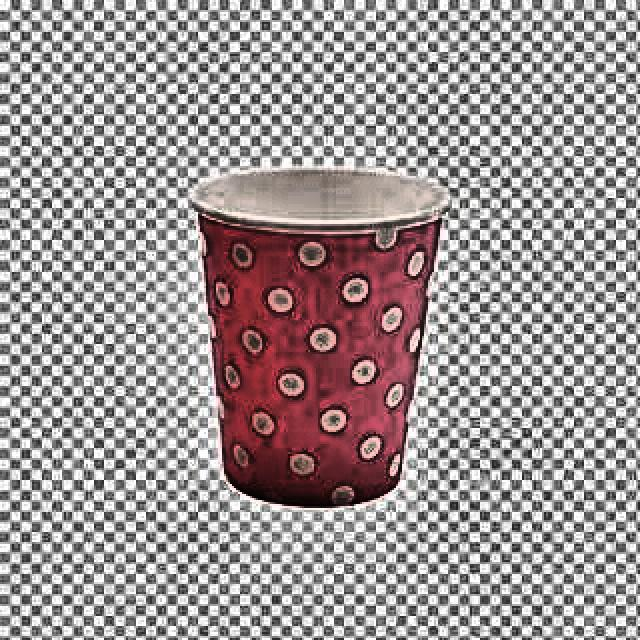Cup: (190, 161, 447, 516)
